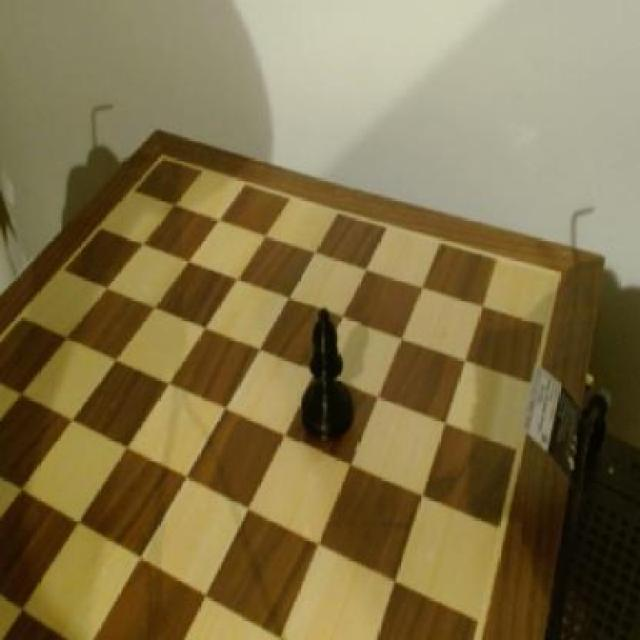bishop: (303, 306, 362, 453)
